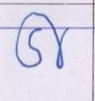i_matra: (38, 12, 69, 68)
